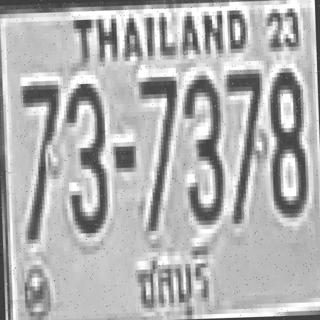N03: (60, 65, 116, 250), (174, 58, 232, 235)
N07: (6, 66, 68, 247), (134, 66, 184, 240), (222, 55, 268, 235)
N08: (264, 58, 320, 232)
P13: (127, 246, 215, 311)
